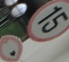Speed limit: (34, 1, 68, 38)
